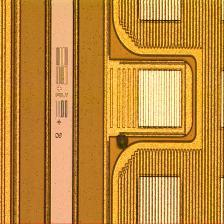PARTICLE: (113, 132, 133, 152)
